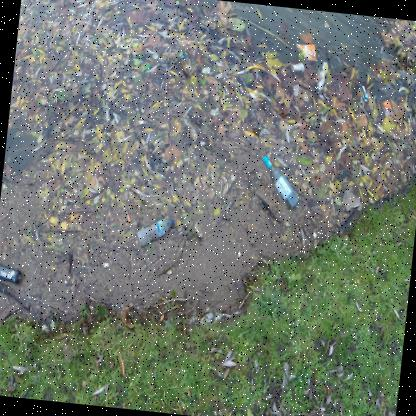Aerosol: (0, 263, 22, 283)
Clear plastic bottle: (262, 155, 299, 210), (137, 218, 174, 245)
Crisp packet: (296, 43, 317, 61), (381, 100, 393, 121)
Other plastic: (357, 83, 368, 104)
Other plastic bottle: (126, 214, 130, 222), (145, 65, 150, 69), (181, 55, 184, 58)
Unlabeled litter: (316, 62, 328, 91), (290, 62, 304, 73), (131, 75, 138, 79)
